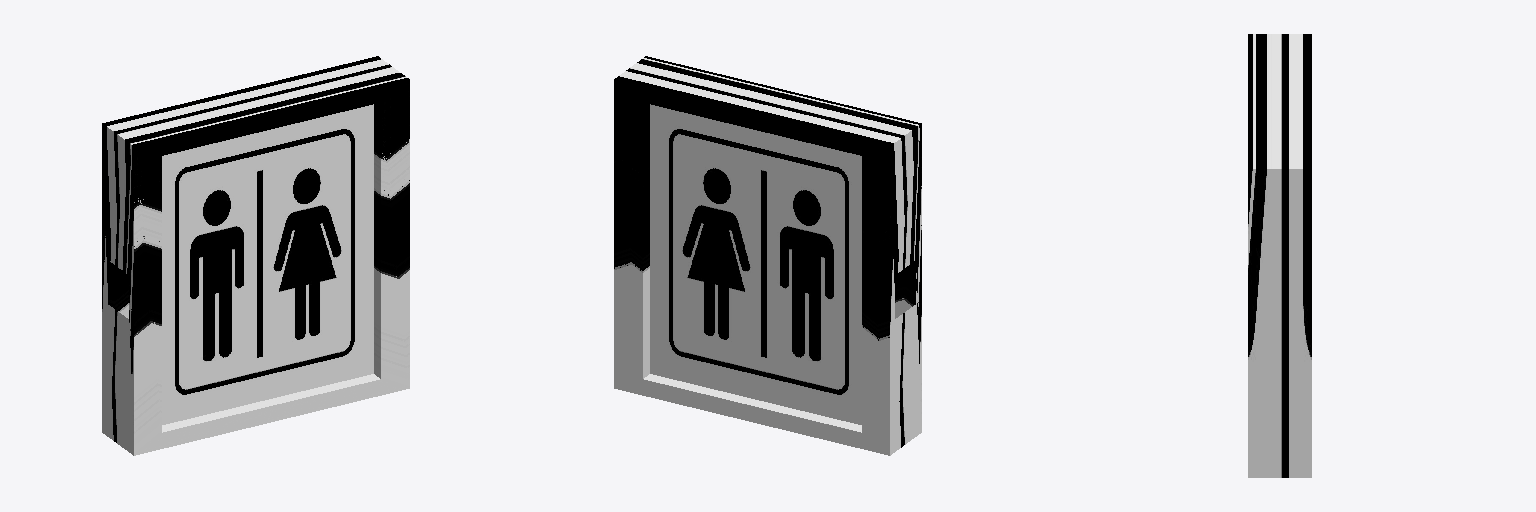
The picture shows the model from 3 angles: view 1: azimuth 30°, elevation 25°; view 2: azimuth 150°, elevation 25°; view 3: azimuth 270°, elevation 25°; orthographic projection.
Visible parts, largest first — view 1: sign BathroomSign; view 2: sign BathroomSign; view 3: sign BathroomSign.
Boxes of the visible parts, x1,y1,x2,y2 form: sign BathroomSign: [102, 56, 409, 455]; sign BathroomSign: [614, 56, 921, 455]; sign BathroomSign: [1248, 34, 1311, 477].
Size of the model in its own units: 4.05 by 4.34 by 0.804.
1 materials, 1 textured.